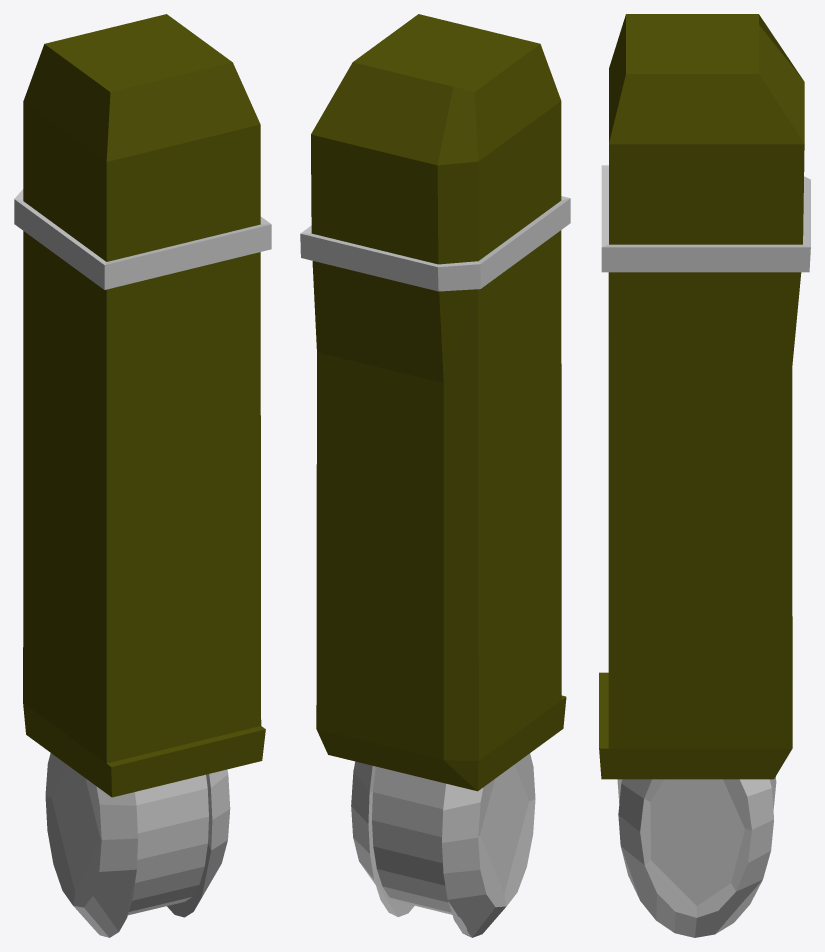
Rendered from rightUpLeg.obj.
The picture shows the model from 3 angles, left to right: view 1: azimuth 30°, elevation 25°; view 2: azimuth 150°, elevation 25°; view 3: azimuth 270°, elevation 25°; orthographic projection.
Parts seen in each view (by area): view 1: 4_Upper_leg.R_Cube.026; view 2: 4_Upper_leg.R_Cube.026; view 3: 4_Upper_leg.R_Cube.026.
Part boxes in pixels (x1,y1,x2,y2): 4_Upper_leg.R_Cube.026: (14,14,271,937); 4_Upper_leg.R_Cube.026: (300,14,570,937); 4_Upper_leg.R_Cube.026: (599,14,810,937).
Size of the model in its own units: 0.8847 by 4.42 by 0.9665.
